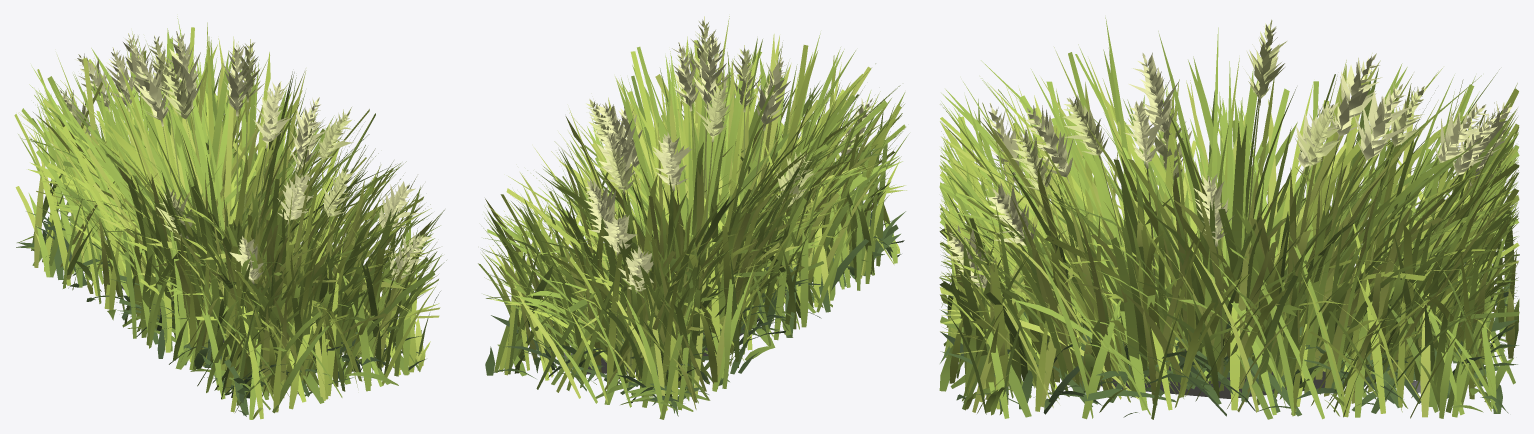
File: flora_grass_1_seeded_meadow_grass_variant_2.glb
The picture shows the model from 3 angles, left to right: view 1: azimuth 30°, elevation 25°; view 2: azimuth 150°, elevation 25°; view 3: azimuth 270°, elevation 25°; orthographic projection. The views are drawn at different scales.
Visible parts, largest first — view 1: blades variant 2, seed heads variant 2, stalks variant 2; view 2: blades variant 2, seed heads variant 2, stalks variant 2; view 3: blades variant 2, seed heads variant 2, stalks variant 2, stones variant 2.
Boxes of the visible parts, x1,y1,x2,y2 form: blades variant 2: [14, 16, 446, 419]; seed heads variant 2: [55, 31, 431, 284]; stalks variant 2: [110, 99, 386, 302]; blades variant 2: [478, 16, 909, 419]; seed heads variant 2: [584, 16, 874, 293]; stalks variant 2: [614, 102, 837, 376]; blades variant 2: [939, 17, 1519, 419]; seed heads variant 2: [946, 19, 1511, 288]; stalks variant 2: [1012, 105, 1471, 390]; stones variant 2: [1074, 337, 1420, 398].
Bounding box in the file's own units: 1 × 1.2 × 2.
